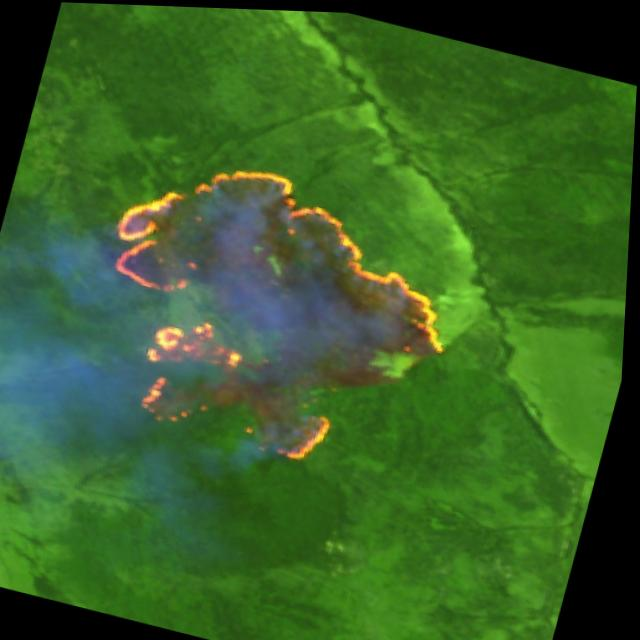fire: (57, 127, 494, 496)
